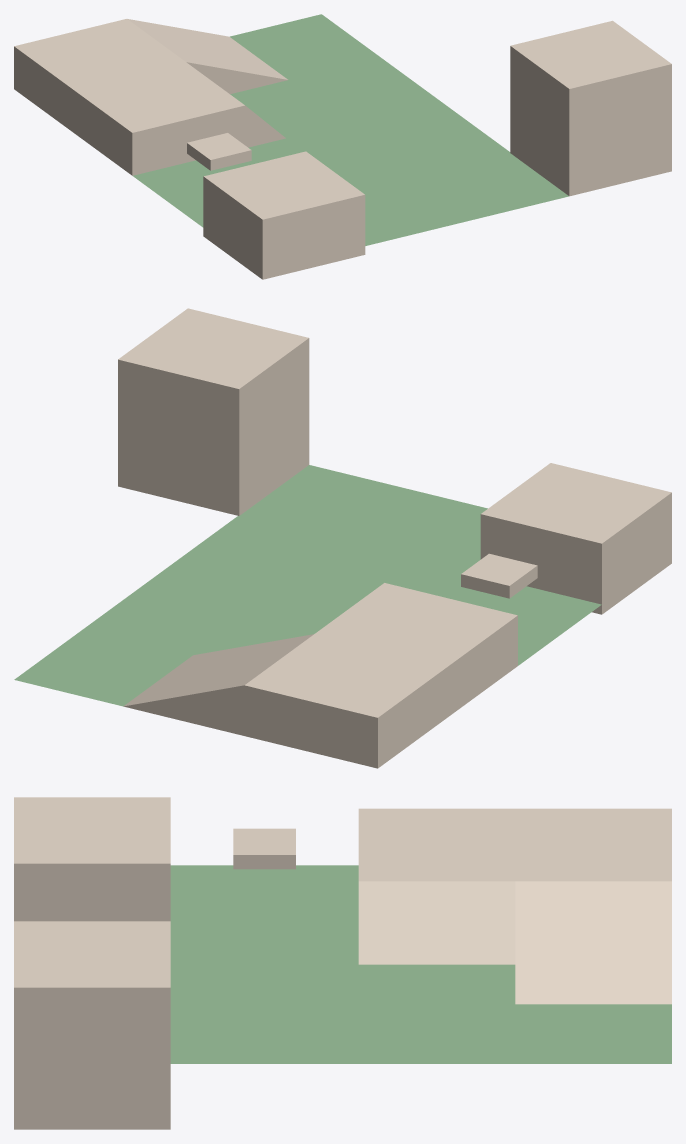
Rendered from character_controller_demo2.glb.
3 views of the same model, one above another, from view 1: azimuth 30°, elevation 25°; view 2: azimuth 150°, elevation 25°; view 3: azimuth 270°, elevation 25° (orthographic). The views are drawn at different scales.
Parts seen in each view (by area): view 1: Ground, Platform.002, Platform, Platform.001, Ramp.001, FloatingPlatform, Ramp; view 2: Ground, Platform.002, Platform, Platform.001, Ramp.001, FloatingPlatform; view 3: Ground, Platform.002, Platform, Platform.001, Ramp.001, Ramp, FloatingPlatform.
Part boxes in pixels (x1,y1,x2,y2): Ground: [133, 14, 568, 245]; Platform.002: [510, 20, 671, 196]; Platform: [14, 19, 245, 175]; Platform.001: [203, 151, 365, 279]; Ramp.001: [127, 19, 287, 94]; FloatingPlatform: [187, 133, 251, 170]; Ramp: [245, 106, 285, 147]; Ground: [14, 465, 601, 706]; Platform.002: [118, 308, 309, 515]; Platform: [244, 583, 517, 768]; Platform.001: [480, 463, 671, 614]; Ramp.001: [123, 634, 313, 735]; FloatingPlatform: [461, 553, 537, 598]; Ground: [170, 865, 671, 1063]; Platform.002: [14, 921, 170, 1129]; Platform: [358, 808, 671, 881]; Platform.001: [14, 797, 170, 921]; Ramp.001: [515, 881, 671, 1004]; Ramp: [358, 881, 515, 964]; FloatingPlatform: [233, 828, 295, 869].
Size of the model in its own units: 19.95 by 5.4 by 21.
